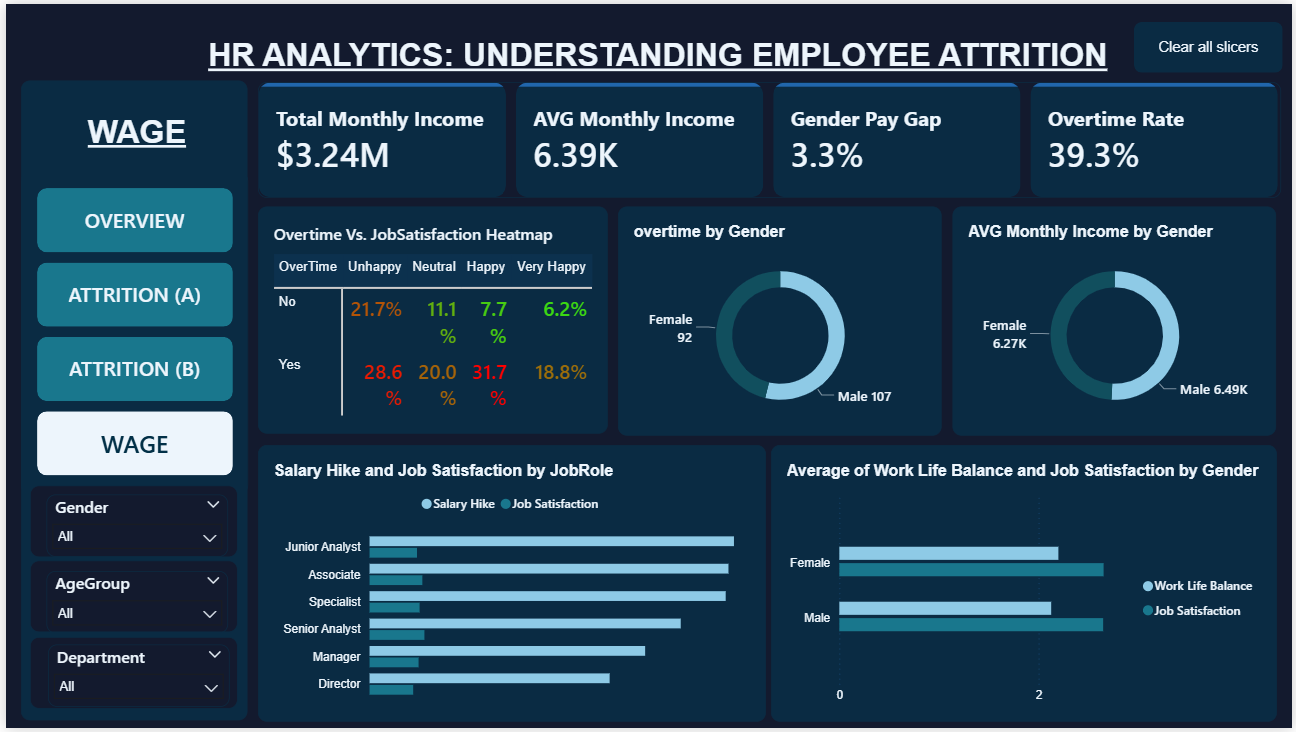

What the dashboard file says about the page in this screenshot:
{"tool":"powerbi","page":{"name":"WAGE","canvas":[1280,720],"ordinal":3},"visuals":[{"type":"shape","box":[15,76.7,225,636.7],"z":0},{"type":"textbox","box":[40,108.8,180,68.3],"z":1000},{"type":"cardVisual","fields":{"Data":["measure.Total Monthly Income","measure.AVG Monthly Income","measure.Gender Pay Gap %","measure.Overtime Rate"]},"box":[251.5,77.1,1018.2,115.5],"z":2000},{"type":"donutChart","fields":{"Category":["hr_attrition employee.Gender"],"Y":["measure.overtime"]},"box":[608.3,201.7,322.1,227.7],"z":3000},{"type":"donutChart","fields":{"Y":["measure.AVG Monthly Income"],"Category":["hr_attrition employee.Gender"]},"box":[941.8,201.7,322.1,227.7],"z":4000},{"type":"clusteredBarChart","title":"Average of Work Life Balance and Job Satisfaction by Gender","fields":{"Category":["hr_attrition employee.Gender"],"Y":["Avg(hr_attrition compensation.WorkLifeBalance)","Avg(hr_attrition compensation.JobSatisfaction)"]},"box":[761.7,438.3,503.3,275],"z":5000},{"type":"clusteredBarChart","title":"Salary Hike and Job Satisfaction by JobRole","fields":{"Category":["hr_attrition employee.JobRole"],"Y":["Avg(hr_attrition compensation.PercentSalaryHike)","Avg(hr_attrition compensation.JobSatisfaction)"]},"box":[250,438.3,505,275],"z":6000},{"type":"textbox","box":[91.7,33.3,1115,70],"z":7000},{"type":"pageNavigator","box":[14.6,167.5,226.1,320.4],"z":8000},{"type":"shape","box":[24.4,478.9,206.6,71.6],"z":9000},{"type":"slicer","fields":{"Values":["hr_attrition employee.Gender"]},"box":[40.7,488.7,180.5,61.8],"z":10000},{"type":"shape","box":[24.6,554,206.6,71.6],"z":11000},{"type":"slicer","fields":{"Values":["hr_attrition employee.AgeGroup"]},"box":[40.8,563.8,180.5,61.8],"z":12000},{"type":"shape","box":[24.4,629.5,206.6,71.6],"z":13000},{"type":"slicer","fields":{"Values":["hr_attrition employee.Department"]},"box":[41.1,636.9,180.5,61.8],"z":14000},{"type":"actionButton","box":[1122.3,17.9,148,50.4],"z":15000},{"type":"pivotTable","title":"Overtime Vs. JobSatisfaction Heatmap","fields":{"Rows":["hr_attrition employment.OverTime"],"Columns":["hr_attrition compensation.satisfactionlevel"],"Values":["measure.Attrition Rate"]},"box":[250.5,201.7,348.1,226.1],"z":16000}]}

Visuals, with their boxes in screenshot pixels (x1, y1, x2, y2), scaled from the page's 1280x720 canvas onto the 1296x732 screenshot:
shape: select_region(15, 78, 243, 725)
textbox: select_region(40, 111, 223, 180)
cardVisual - measure.Total Monthly Income x measure.AVG Monthly Income: select_region(255, 78, 1286, 196)
donutChart - hr_attrition employee.Gender x measure.overtime: select_region(616, 205, 942, 437)
donutChart - measure.AVG Monthly Income x hr_attrition employee.Gender: select_region(954, 205, 1280, 437)
"Average of Work Life Balance and Job Satisfaction by Gender" clusteredBarChart: select_region(771, 446, 1281, 725)
"Salary Hike and Job Satisfaction by JobRole" clusteredBarChart: select_region(253, 446, 764, 725)
textbox: select_region(93, 34, 1222, 105)
pageNavigator: select_region(15, 170, 244, 496)
shape: select_region(25, 487, 234, 560)
slicer - hr_attrition employee.Gender: select_region(41, 497, 224, 560)
shape: select_region(25, 563, 234, 636)
slicer - hr_attrition employee.AgeGroup: select_region(41, 573, 224, 636)
shape: select_region(25, 640, 234, 713)
slicer - hr_attrition employee.Department: select_region(42, 648, 224, 710)
actionButton: select_region(1136, 18, 1286, 69)
"Overtime Vs. JobSatisfaction Heatmap" pivotTable: select_region(254, 205, 606, 435)
